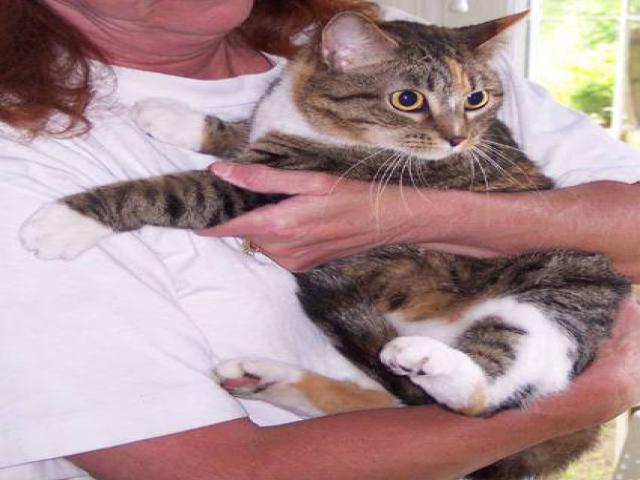cat: (60, 7, 623, 425)
